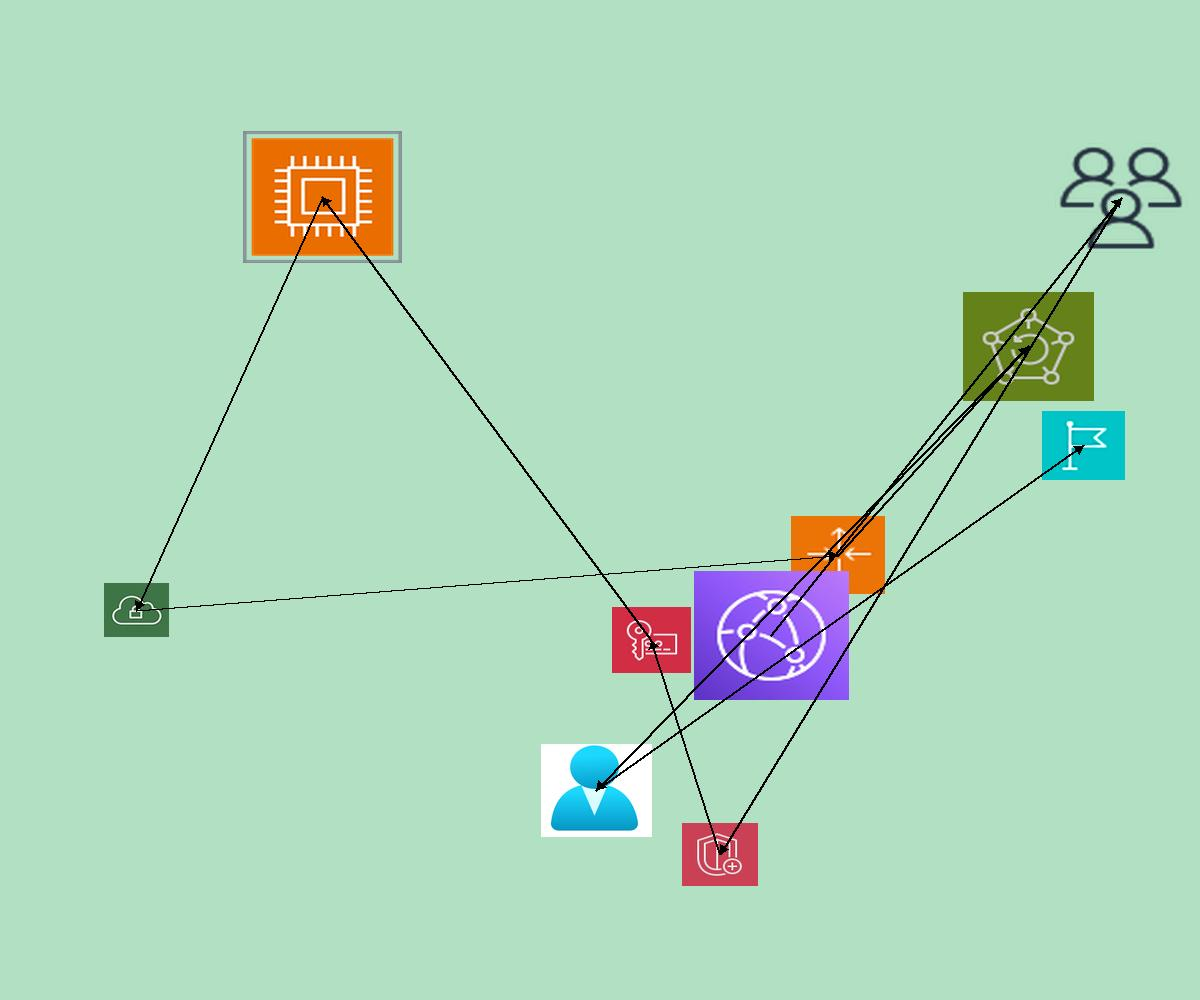AWS-Backup: (963, 292, 1094, 401)
AWS-Category_Compute: (243, 131, 402, 263)
AWS-CloudFront: (694, 571, 849, 700)
AWS-Key-Management-Service: (612, 607, 691, 673)
AWS-Private_vpc: (104, 583, 169, 637)
AWS-Region: (1042, 411, 1125, 480)
AWS-Res_Users: (1055, 143, 1187, 253)
AWS-Scaling-group: (791, 516, 885, 594)
AWS-Shield: (682, 823, 758, 886)
Azure_users: (541, 744, 652, 837)
